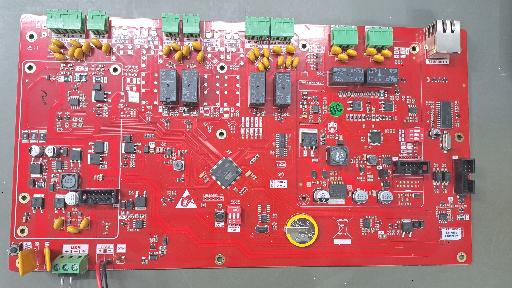var: (17, 247, 38, 276), (44, 246, 51, 272), (53, 218, 64, 230), (66, 225, 80, 234), (49, 37, 63, 46), (82, 41, 91, 54), (49, 45, 63, 53), (365, 47, 377, 56), (102, 42, 111, 54), (74, 48, 83, 60), (80, 217, 89, 229), (67, 46, 75, 59), (54, 53, 67, 61), (175, 50, 183, 63), (182, 45, 190, 58), (171, 42, 182, 51), (91, 38, 102, 47), (331, 46, 342, 55), (337, 53, 349, 61), (70, 40, 82, 48), (192, 42, 202, 51), (286, 45, 296, 54), (346, 49, 357, 57), (262, 48, 270, 59), (277, 56, 285, 67), (372, 55, 384, 62), (163, 45, 170, 57), (197, 51, 204, 63), (253, 46, 260, 58), (285, 56, 292, 68), (248, 50, 255, 62), (381, 50, 392, 57), (262, 57, 269, 68), (292, 57, 299, 68), (258, 62, 265, 72), (272, 46, 282, 53)
